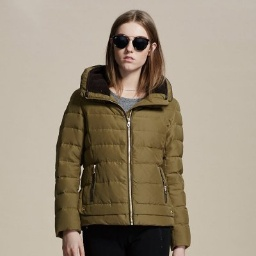face: (103, 10, 166, 85)
